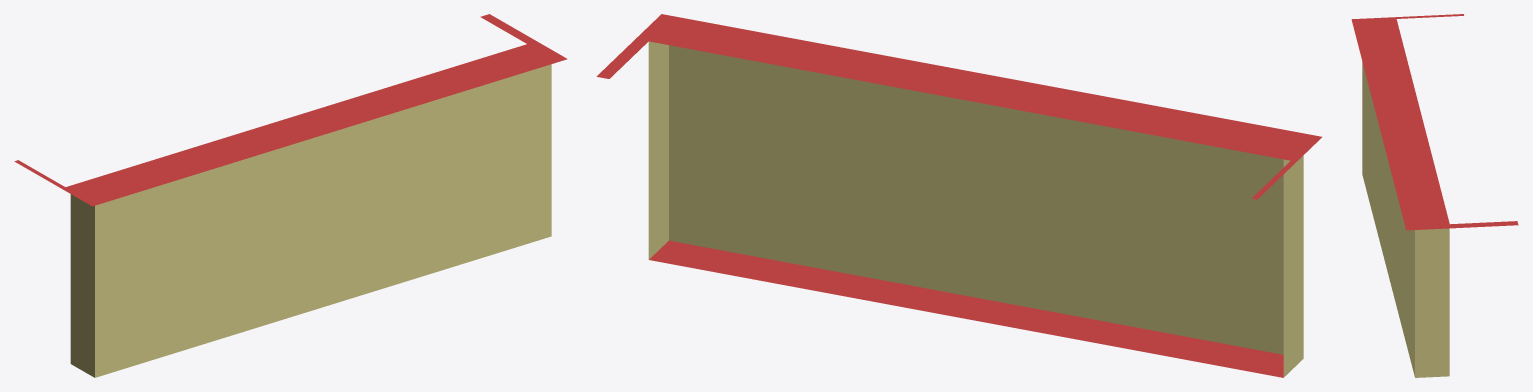
3 renders of one model, left to right at view 1: azimuth 30°, elevation 25°; view 2: azimuth 150°, elevation 25°; view 3: azimuth 270°, elevation 25°, orthographic. The views are drawn at different scales.
Size of the model in its own units: 25.61 by 8.35 by 8.4.
